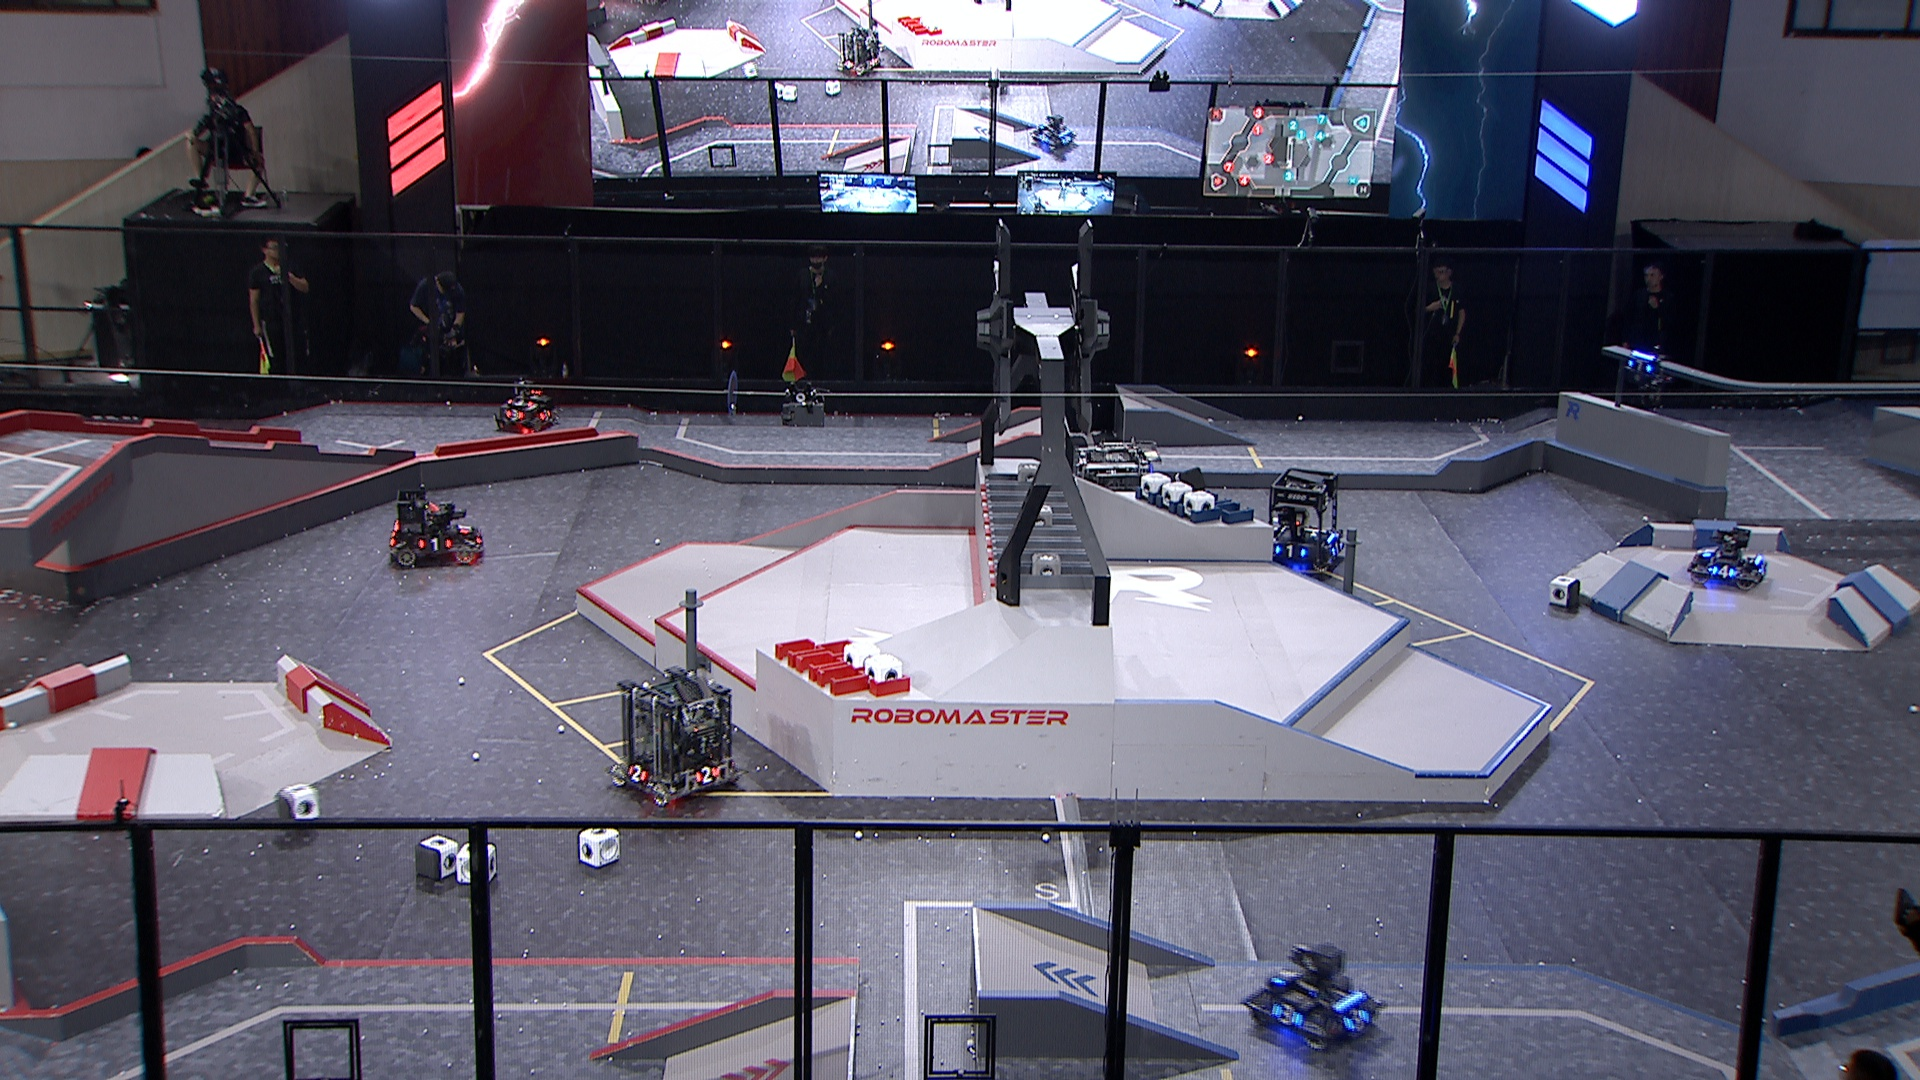armor: (1269, 1004, 1302, 1029), (1346, 1007, 1371, 1031), (694, 764, 721, 785), (419, 535, 452, 553), (1273, 963, 1295, 986), (1276, 545, 1305, 560), (626, 764, 647, 783), (1629, 357, 1652, 372), (1713, 564, 1733, 579), (505, 409, 526, 422), (472, 527, 485, 547), (1329, 537, 1342, 556), (1700, 545, 1716, 559), (455, 522, 471, 535), (1756, 560, 1768, 578), (508, 400, 531, 407), (541, 409, 553, 419)
car: (605, 665, 749, 807), (1245, 938, 1381, 1058), (1250, 465, 1348, 588), (1063, 434, 1178, 537), (384, 485, 489, 567), (1685, 520, 1771, 593), (495, 381, 560, 442)
ignore: (832, 26, 882, 79), (1025, 112, 1077, 149)
watcher: (1625, 339, 1676, 409)
